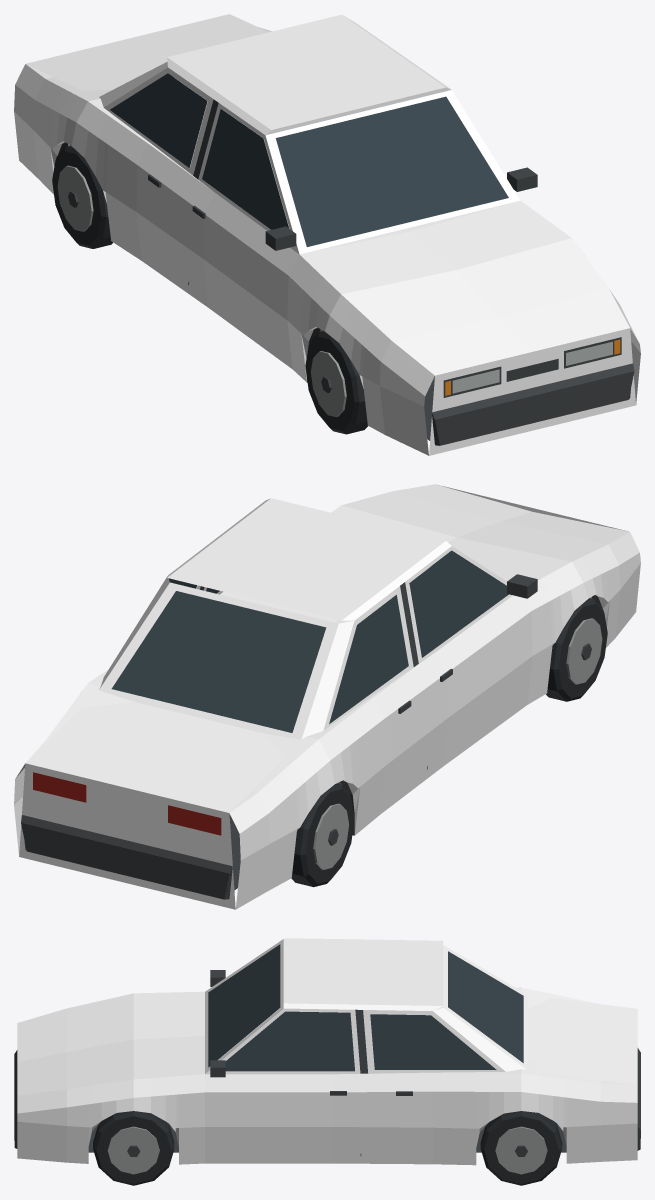
The model's file is sanga_usagi_gt_98.glb.
3 views of the same model, one above another, from view 1: azimuth 30°, elevation 25°; view 2: azimuth 150°, elevation 25°; view 3: azimuth 270°, elevation 25° (orthographic). The views are drawn at different scales.
Parts seen in each view (by area): view 1: sanga_usagi_gt_98; view 2: sanga_usagi_gt_98; view 3: sanga_usagi_gt_98.
Boxes of the visible parts, x1=… form: sanga_usagi_gt_98: x1=14, y1=14, x2=640, y2=455; sanga_usagi_gt_98: x1=14, y1=484, x2=640, y2=909; sanga_usagi_gt_98: x1=14, y1=938, x2=640, y2=1185.
Size of the model in its own units: 1.8 by 1.44 by 4.85.
8 materials, 1 textured.
